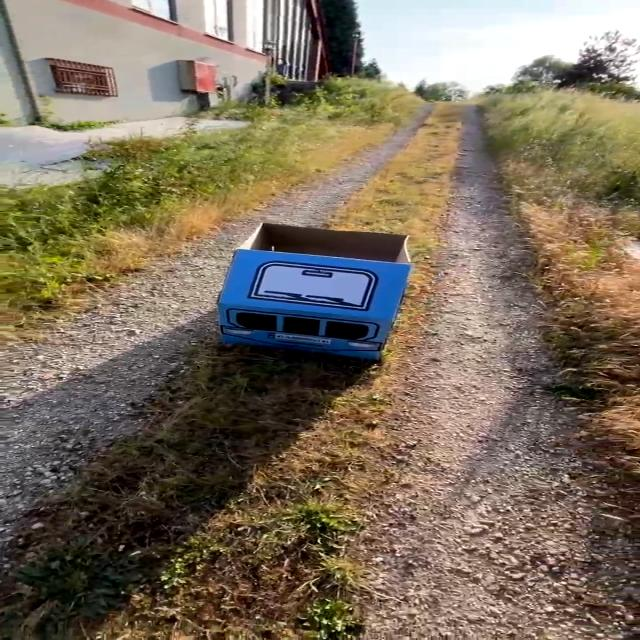blue_car: (171, 188, 445, 398)
